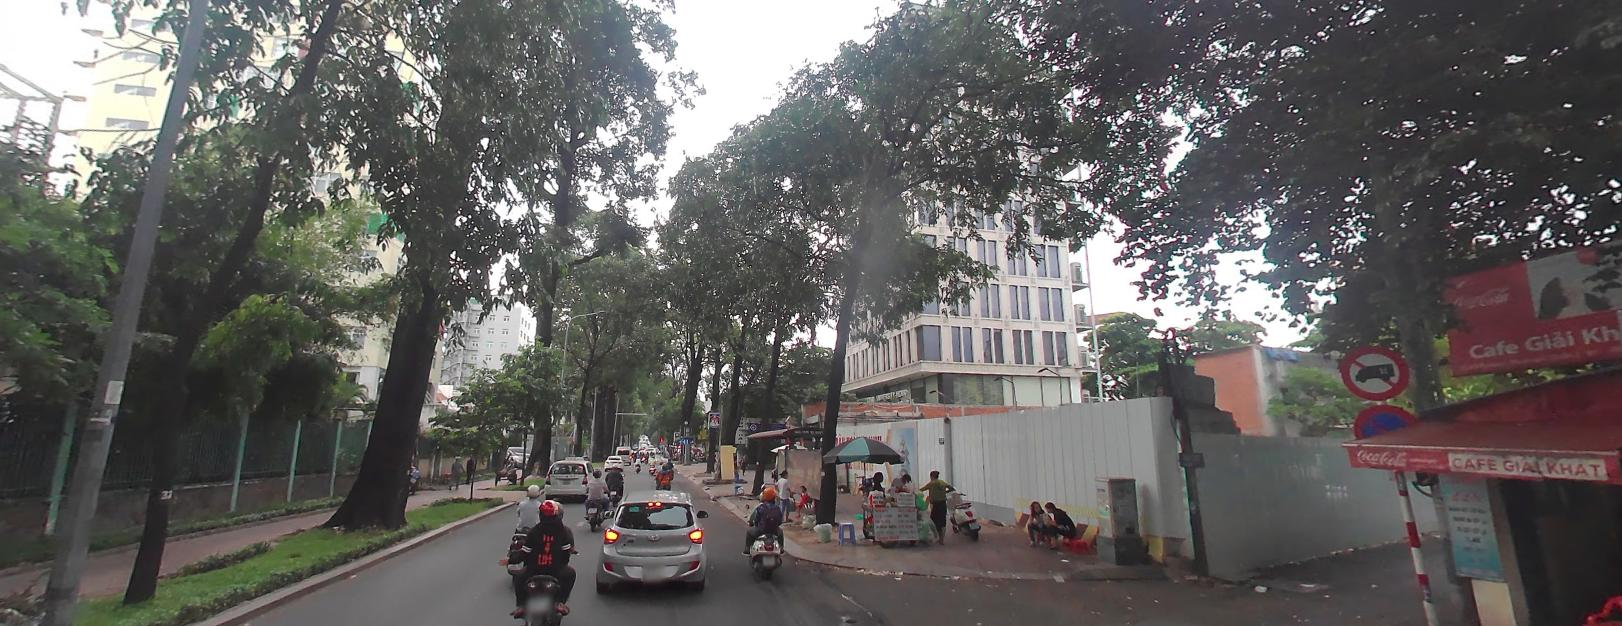Cam con lai: (1339, 342, 1407, 397)
Cam dung va do: (1352, 403, 1421, 455)
